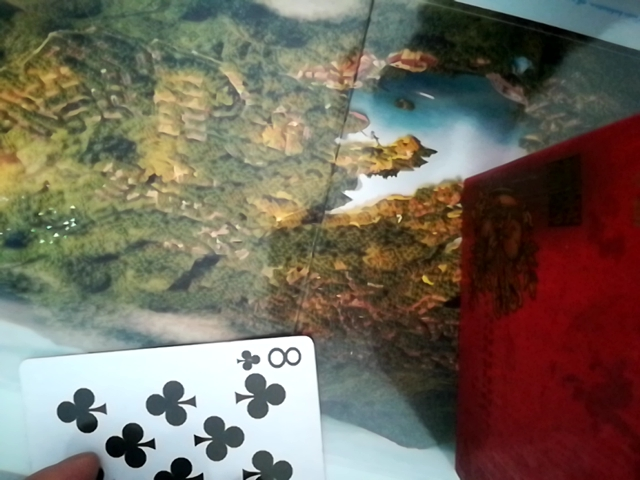mh 8: (3, 336, 341, 480)
